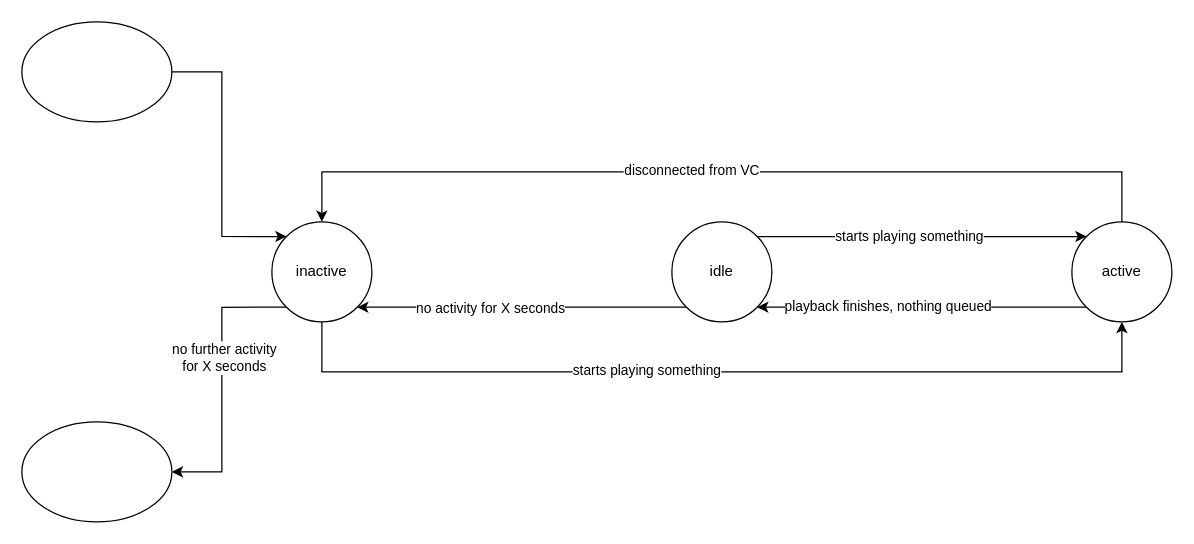
Image size: 1194x544. Some labels were removed from this diagram. The shapes that lost their labels are listed below. From the top down, each one's centre as x and y in pixels, then its label:
At point (96, 71): "Jukebox instantiated".
At point (96, 471): "Jukebox destroyed".
